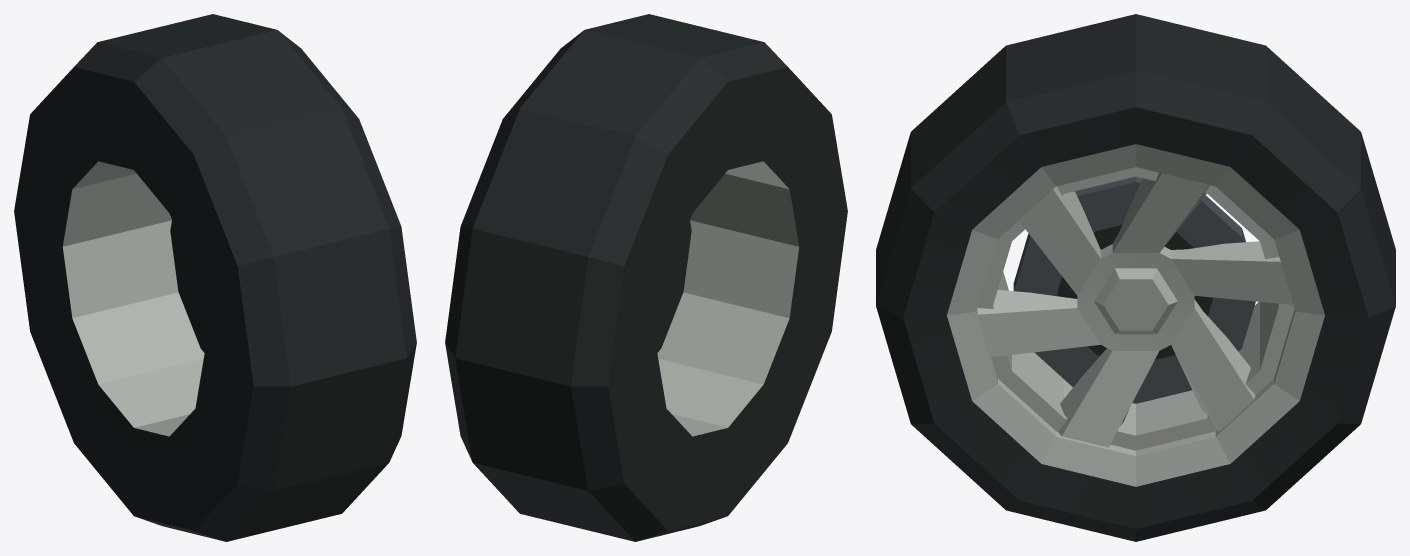
The model's file is SM_Veh_Car_Sedan_Wheel_fl.obj.
3 views of the same model, side by side, from view 1: azimuth 30°, elevation 25°; view 2: azimuth 150°, elevation 25°; view 3: azimuth 270°, elevation 25° (orthographic).
Visible parts, largest first — view 1: SM_Veh_Car_Sedan_Wheel_fl_0; view 2: SM_Veh_Car_Sedan_Wheel_fl_0; view 3: SM_Veh_Car_Sedan_Wheel_fl_0.
Part boxes in pixels (<box>): SM_Veh_Car_Sedan_Wheel_fl_0: <box>14,14,416,541</box>; SM_Veh_Car_Sedan_Wheel_fl_0: <box>445,14,847,541</box>; SM_Veh_Car_Sedan_Wheel_fl_0: <box>876,14,1395,541</box>.
Size of the model in its own units: 0.2707 by 0.7229 by 0.7229.
Materials: 1 (1 with a texture image).
